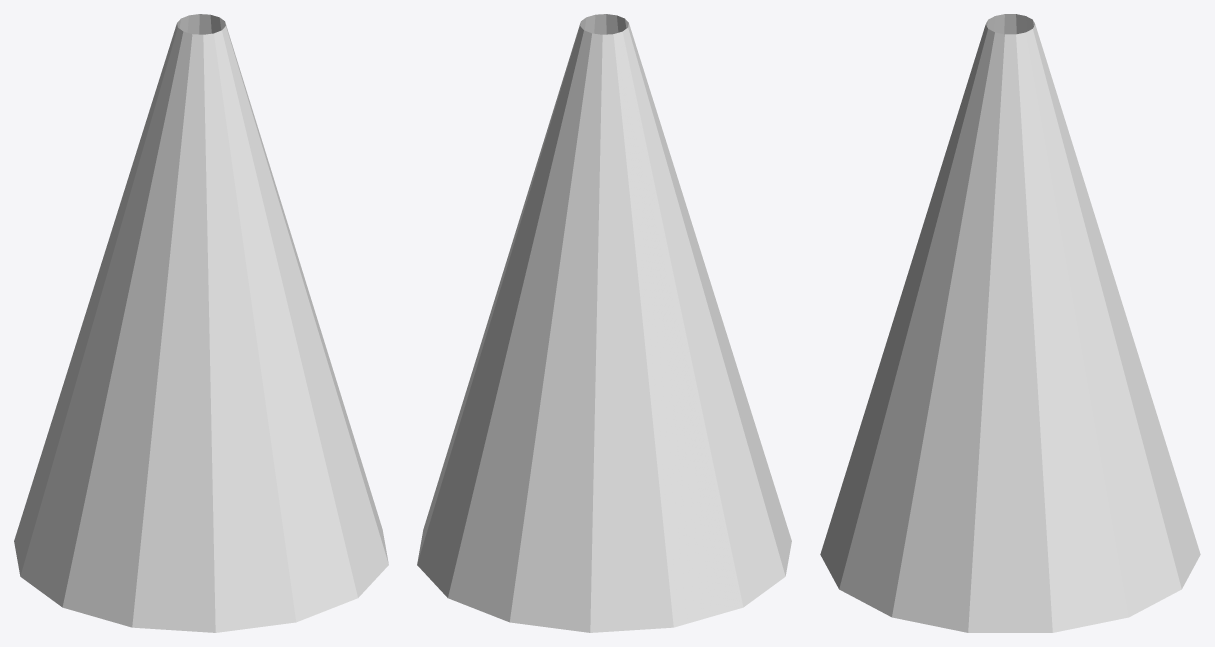
Rendered from VolumetricLight.obj.
3 views of the same model, side by side, from view 1: azimuth 30°, elevation 25°; view 2: azimuth 150°, elevation 25°; view 3: azimuth 270°, elevation 25° (orthographic).
Parts seen in each view (by area): view 1: Cone, Cone.001; view 2: Cone, Cone.001; view 3: Cone, Cone.001.
Part boxes in pixels (x1=…): Cone: x1=14, y1=23, x2=388, y2=632; Cone.001: x1=177, y1=14, x2=225, y2=34; Cone: x1=417, y1=23, x2=791, y2=632; Cone.001: x1=580, y1=14, x2=628, y2=34; Cone: x1=820, y1=24, x2=1200, y2=632; Cone.001: x1=986, y1=14, x2=1034, y2=34.
Bounding box in the file's own units: 1.27 × 2 × 1.3.
